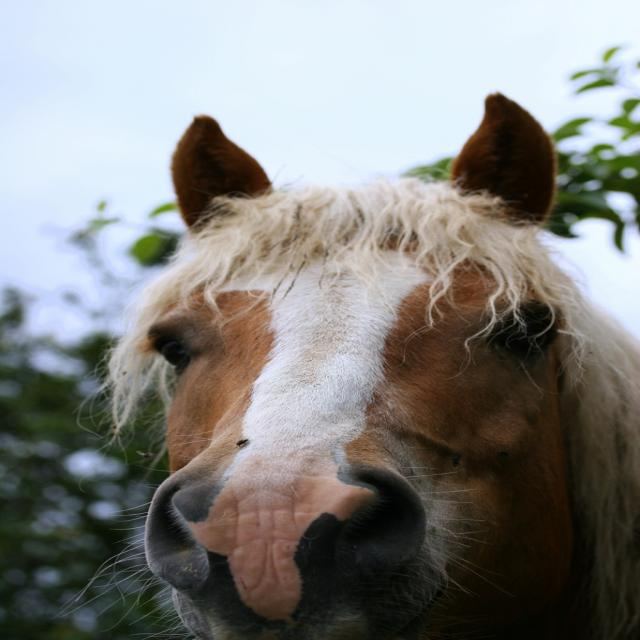Horse: (51, 89, 640, 640)
